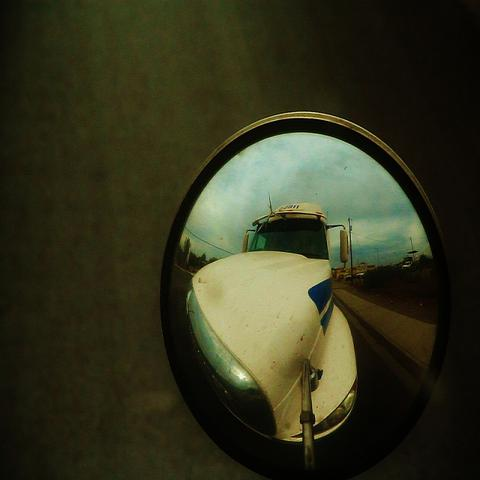truck: (186, 198, 368, 448)
